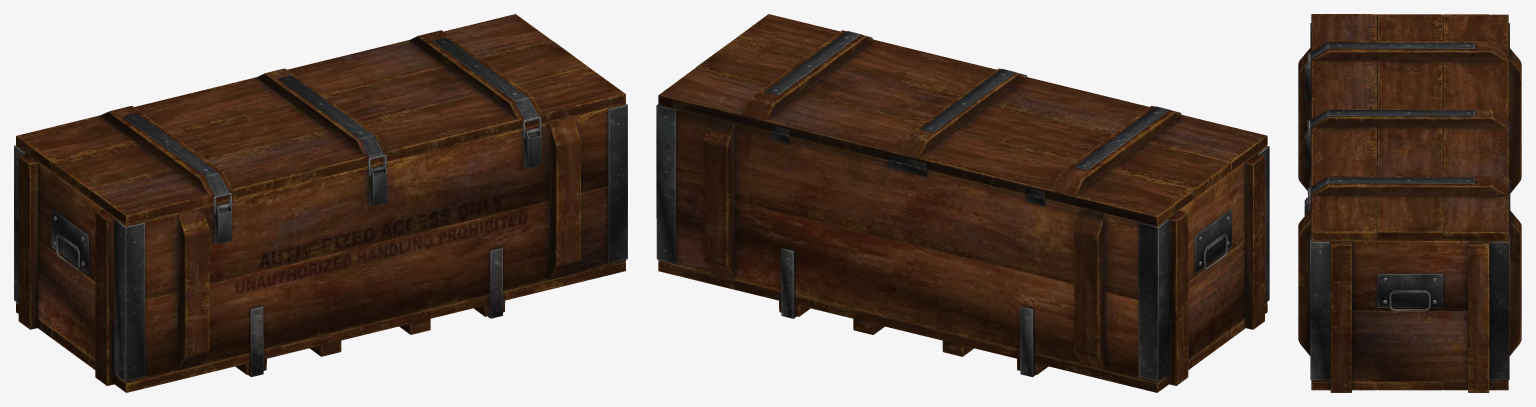
File: wooden_military_crate.glb
3 views of the same model, side by side, from view 1: azimuth 30°, elevation 25°; view 2: azimuth 150°, elevation 25°; view 3: azimuth 270°, elevation 25° (orthographic). The views are drawn at different scales.
Parts seen in each view (by area): view 1: wooden_military_crate; view 2: wooden_military_crate; view 3: wooden_military_crate.
Part boxes in pixels (box(x1,y1,x2,y2)): wooden_military_crate: box(14, 14, 627, 392); wooden_military_crate: box(656, 14, 1269, 392); wooden_military_crate: box(1298, 14, 1521, 392).
Size of the model in its own units: 1.24 by 0.4639 by 0.5198.
1 material, 1 textured.
